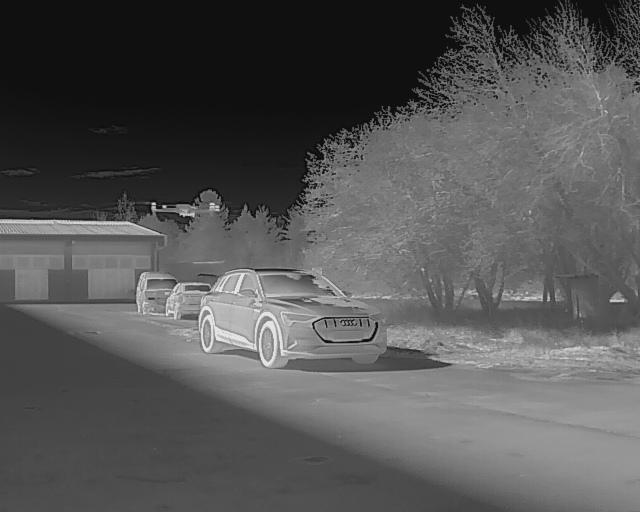drone: (139, 194, 229, 224)
